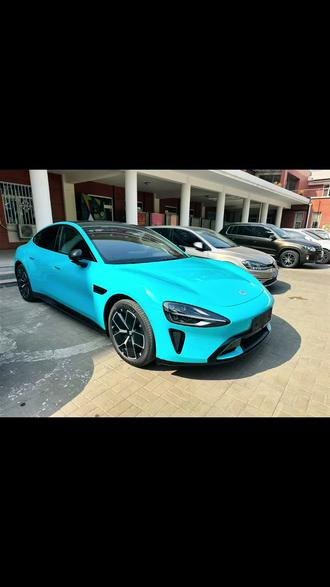other: (222, 220, 322, 269)
su7: (16, 215, 272, 369)
